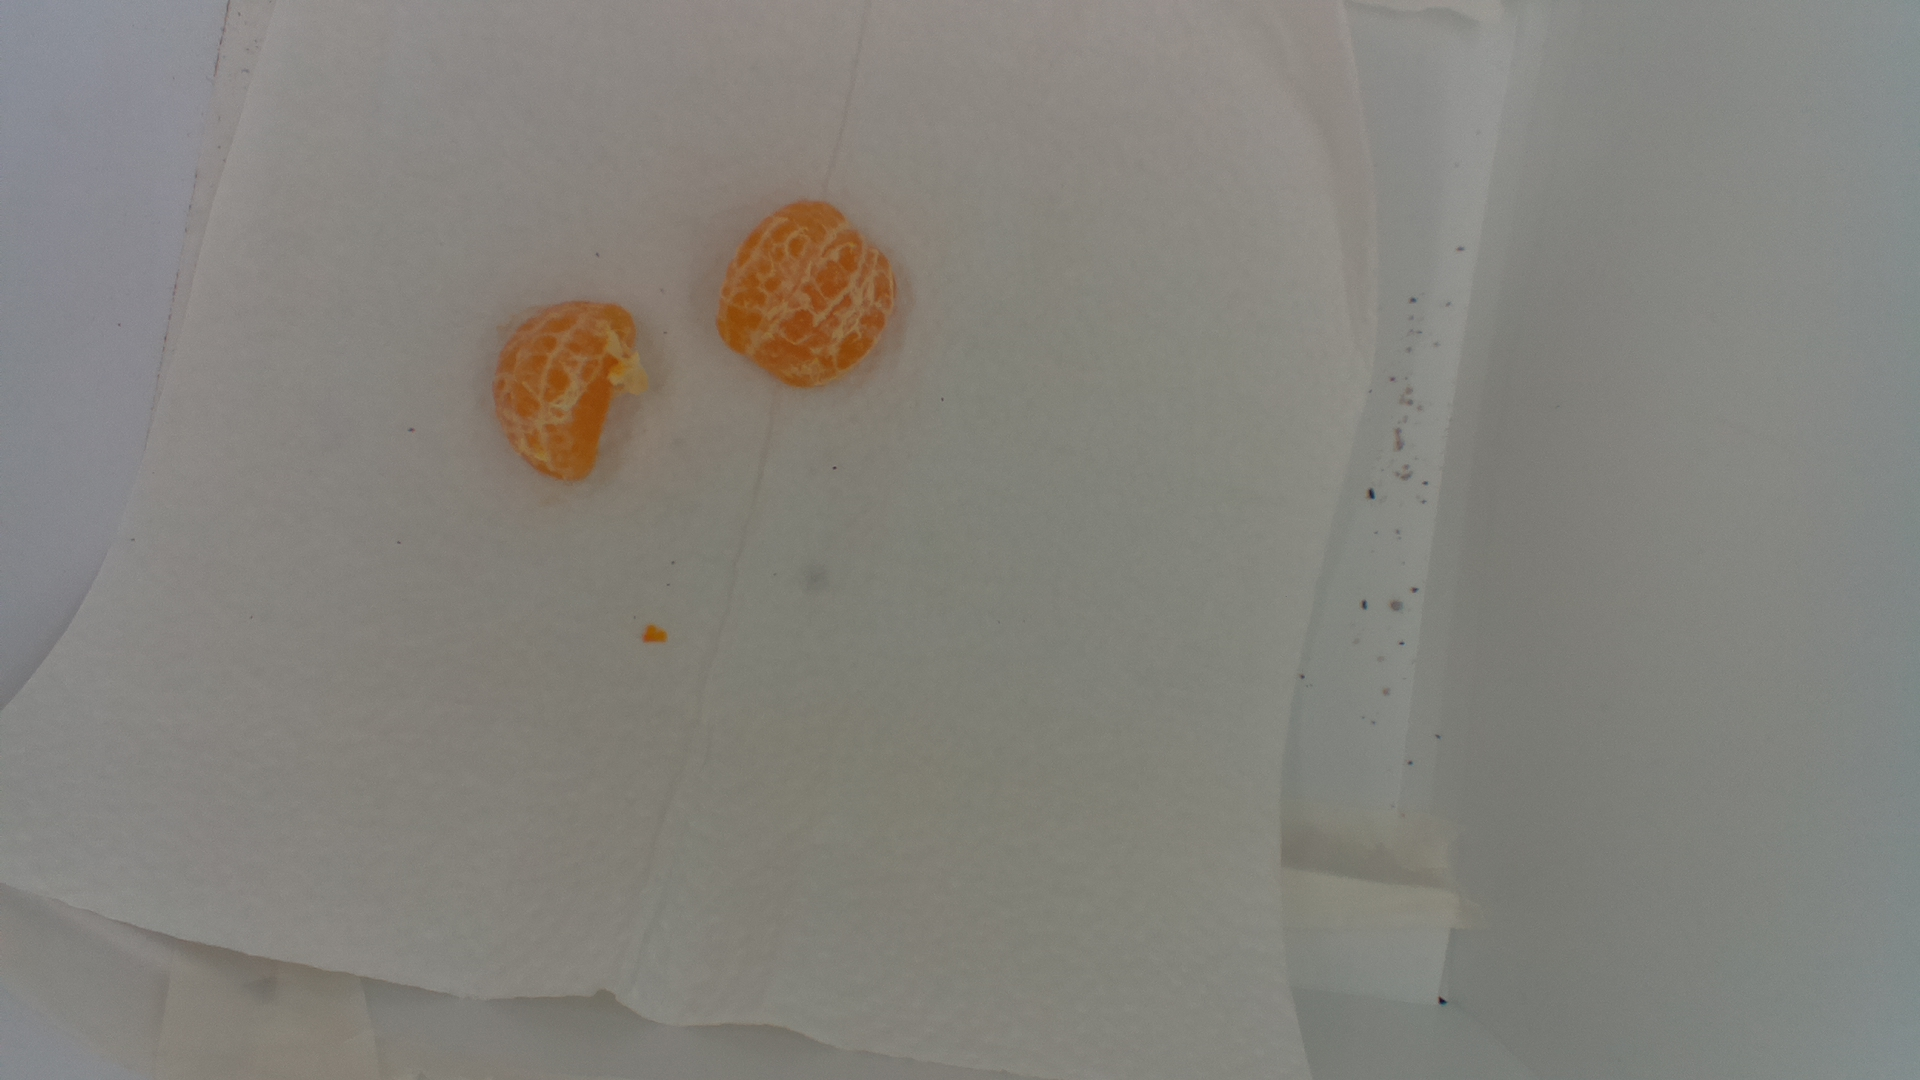fruit: (712, 198, 906, 390), (492, 298, 654, 493)
